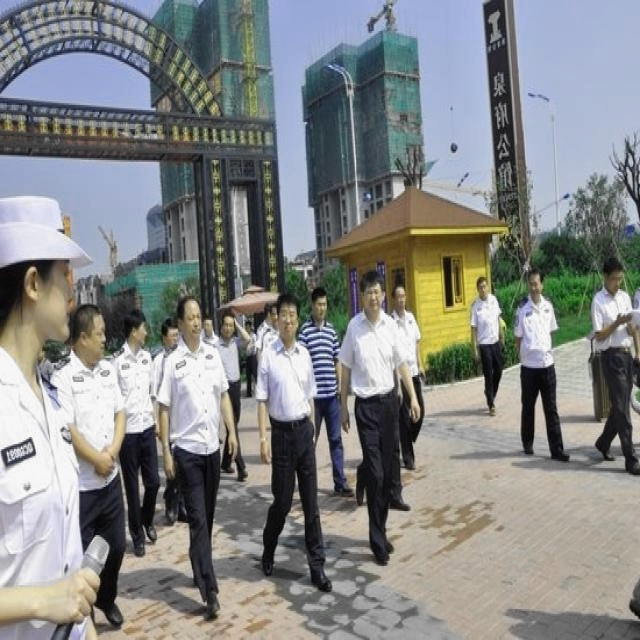Sin_Casco_Mascarrilla: (177, 293, 203, 343), (359, 270, 385, 318)
